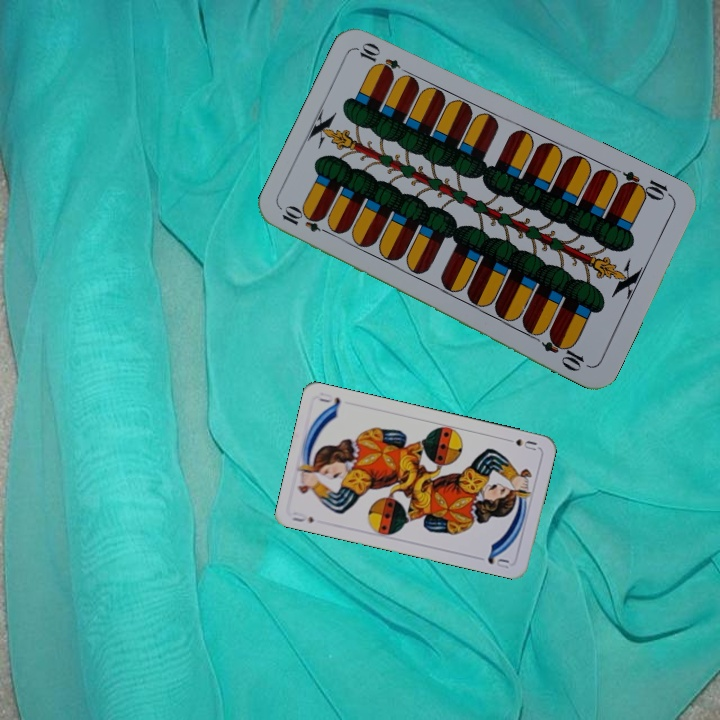E10: (616, 167, 675, 204), (277, 204, 335, 238)
SU: (500, 435, 539, 453), (289, 507, 316, 525)
